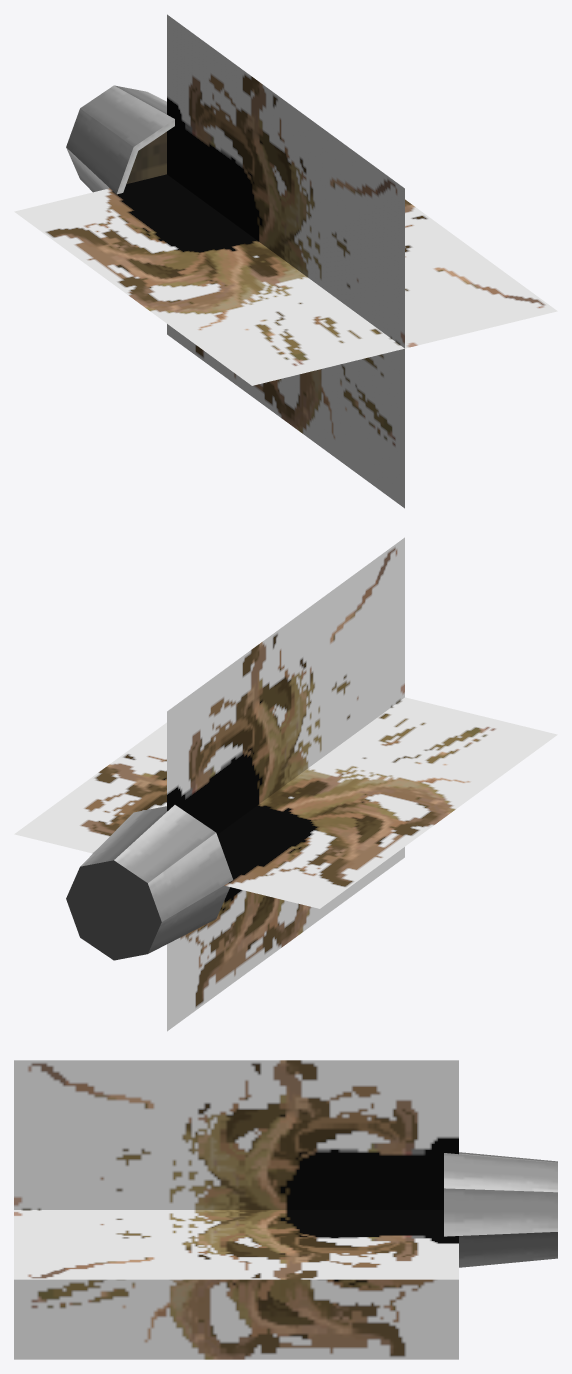
The model's file is pz_plant_native_26.obj.
3 views of the same model, one above another, from view 1: azimuth 30°, elevation 25°; view 2: azimuth 150°, elevation 25°; view 3: azimuth 270°, elevation 25° (orthographic). The views are drawn at different scales.
Parts seen in each view (by area): view 1: foliage_PNG_crossed_cards, pot_soil_and_rim; view 2: foliage_PNG_crossed_cards, pot_soil_and_rim; view 3: foliage_PNG_crossed_cards, pot_soil_and_rim.
Boxes of the visible parts, left/top/right/bottom form: foliage_PNG_crossed_cards: left=14, top=14, right=557, bottom=508; pot_soil_and_rim: left=66, top=85, right=174, bottom=194; foliage_PNG_crossed_cards: left=14, top=537, right=557, bottom=1031; pot_soil_and_rim: left=66, top=805, right=233, bottom=960; foliage_PNG_crossed_cards: left=14, top=1060, right=458, bottom=1359; pot_soil_and_rim: left=444, top=1152, right=557, bottom=1267.
Bounding box in the file's own units: 0.5497 × 0.5497 × 0.9062.
